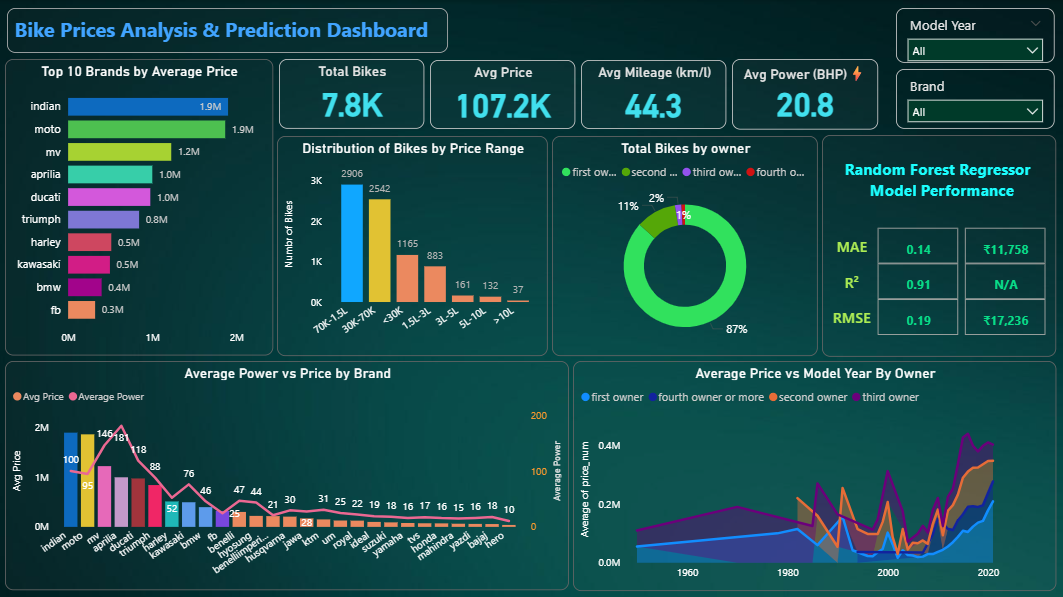

Layout of this report page (visuals, bound fields, positions):
{"tool":"powerbi","page":{"name":"Page 1","canvas":[1280,720],"ordinal":0},"visuals":[{"type":"textbox","box":[9.6,9.6,531,54.2],"z":0},{"type":"card","title":"Total Bikes","fields":{"Values":["bike_data_cleaned.Total Bikes"]},"box":[337,71,175,85],"z":1000},{"type":"card","title":"Avg Price","fields":{"Values":["bike_data_cleaned.Avg Price"]},"box":[519,72.2,175,85],"z":2000},{"type":"card","title":"Avg Mileage (km/l)","fields":{"Values":["bike_data_cleaned.Average Mileage"]},"box":[701,72.2,175,85],"z":3000},{"type":"card","title":"Avg Power (BHP)⚡","fields":{"Values":["bike_data_cleaned.Average Power"]},"box":[882,70.6,175.9,85],"z":4000},{"type":"clusteredColumnChart","title":"Distribution of Bikes by Price Range","fields":{"Category":["bike_data_cleaned.price_range"],"Y":["CountNonNull(bike_data_cleaned.brand)"]},"box":[335,163.7,326.3,264.9],"z":5000},{"type":"clusteredBarChart","title":"Top 10 Brands by Average Price","fields":{"Category":["bike_data_cleaned.brand"],"Y":["bike_data_cleaned.Avg Price"]},"box":[7.2,71,322.7,357],"z":6000},{"type":"lineClusteredColumnComboChart","title":"Average Power vs Price by Brand","fields":{"Category":["bike_data_cleaned.brand"],"Y":["bike_data_cleaned.Avg Price"],"Y2":["bike_data_cleaned.Average Power"]},"box":[7.2,435,679,275.7],"z":7000},{"type":"donutChart","title":"Total Bikes by owner","fields":{"Y":["bike_data_cleaned.Total Bikes"],"Category":["bike_data_cleaned.owner_clean"]},"box":[666,163.7,320.3,264.9],"z":8000},{"type":"stackedAreaChart","title":"Average Price vs Model Year By Owner","fields":{"Category":["bike_data_cleaned.model_year"],"Series":["bike_data_cleaned.owner_clean"],"Y":["Avg(bike_data_cleaned.price_num)"]},"box":[691.1,434.9,582,277.2],"z":9000},{"type":"shape","box":[990.9,162.5,281.7,267.3],"z":10000},{"type":"cardVisual","fields":{"Data":["Sum(model_prediction.Log Scale)","Min(model_prediction.Original Scale)"],"Rows":["model_prediction.Metric"]},"box":[990.9,249.2,272.1,179.4],"z":11000},{"type":"textbox","box":[998,185,274.6,86],"z":12000},{"type":"slicer","fields":{"Values":["bike_data_cleaned.brand"]},"box":[1080.5,83.1,191.2,72],"z":13000},{"type":"slicer","fields":{"Values":["bike_data_cleaned.mileage_bin"]},"box":[1080.5,9.7,191.2,66.5],"z":14000}]}

Visuals, with their boxes in screenshot pixels (x1, y1, x2, y2), scaled from the page's 1280x720 canvas onto the 1063x597 screenshot:
textbox: 8, 8, 449, 53
"Total Bikes" card: 280, 59, 425, 129
"Avg Price" card: 431, 60, 576, 130
"Avg Mileage (km/l)" card: 582, 60, 727, 130
"Avg Power (BHP)⚡" card: 732, 59, 879, 129
"Distribution of Bikes by Price Range" clusteredColumnChart: 278, 136, 549, 355
"Top 10 Brands by Average Price" clusteredBarChart: 6, 59, 274, 355
"Average Power vs Price by Brand" lineClusteredColumnComboChart: 6, 361, 570, 589
"Total Bikes by owner" donutChart: 553, 136, 819, 355
"Average Price vs Model Year By Owner" stackedAreaChart: 574, 361, 1057, 590
shape: 823, 135, 1057, 356
cardVisual - Sum(model_prediction.Log Scale) x Min(model_prediction.Original Scale): 823, 207, 1049, 355
textbox: 829, 153, 1057, 225
slicer - bike_data_cleaned.brand: 897, 69, 1056, 129
slicer - bike_data_cleaned.mileage_bin: 897, 8, 1056, 63
